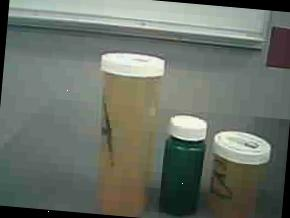Bottle A: (82, 46, 168, 218)
Bottle B: (206, 126, 276, 218)
Bottle C: (157, 110, 209, 218)
